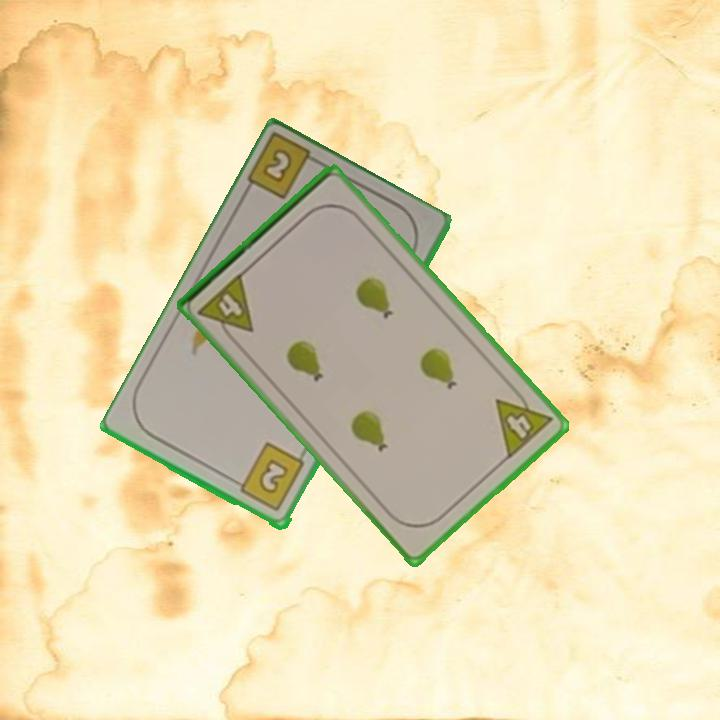2b: (229, 439, 308, 515), (244, 133, 328, 203)
4p: (492, 381, 555, 462), (195, 269, 257, 347)
